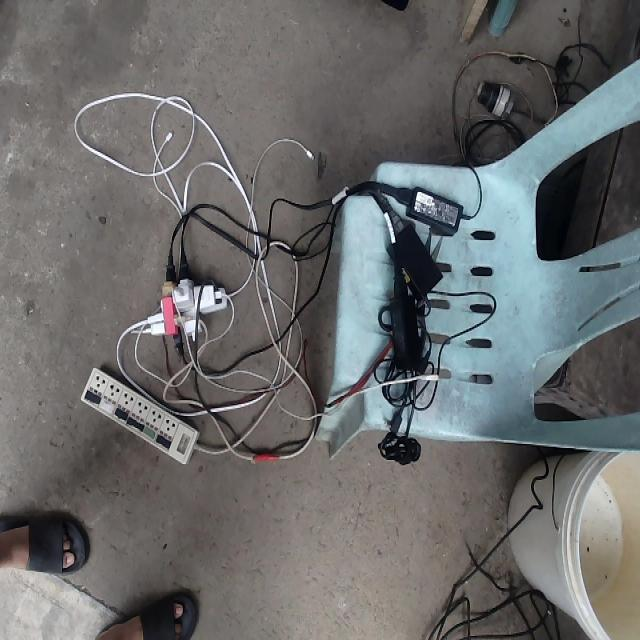-: (144, 252, 228, 357)
